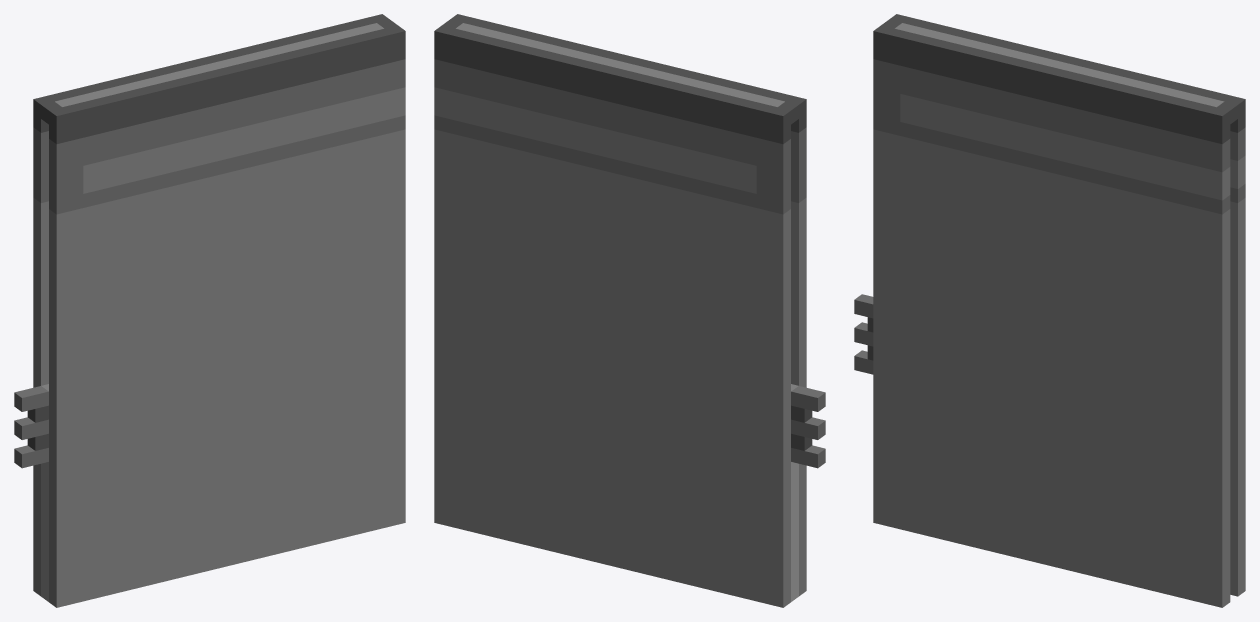
File: Door.obj
3 renders of one model, left to right at view 1: azimuth 30°, elevation 25°; view 2: azimuth 150°, elevation 25°; view 3: azimuth 330°, elevation 25°, orthographic.
Size of the model in its own units: 28 by 35 by 3.
Materials: 1 (1 with a texture image).
